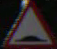Speed Breaker ahead: (3, 3, 47, 41)
